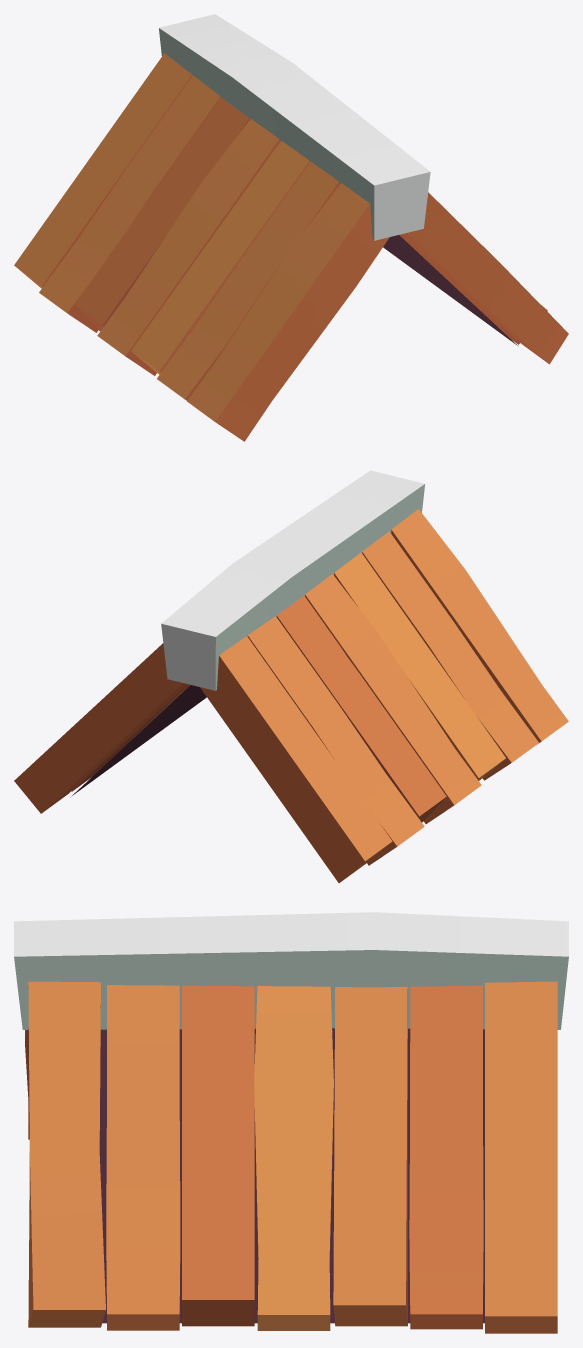
Rendered from Roof02_Wood_White.glb.
3 views of the same model, one above another, from view 1: azimuth 30°, elevation 25°; view 2: azimuth 150°, elevation 25°; view 3: azimuth 270°, elevation 25° (orthographic). The views are drawn at different scales.
Visible parts, largest first — view 1: Roof02_Wood_White; view 2: Roof02_Wood_White; view 3: Roof02_Wood_White.
Part boxes in pixels (left/top/right/bottom): Roof02_Wood_White: left=14, top=14, right=568, bottom=441; Roof02_Wood_White: left=14, top=470, right=568, bottom=882; Roof02_Wood_White: left=14, top=912, right=568, bottom=1333.
Bounding box in the file's own units: 2.41 × 1.49 × 2.46.
Materials: 1 (1 with a texture image).
